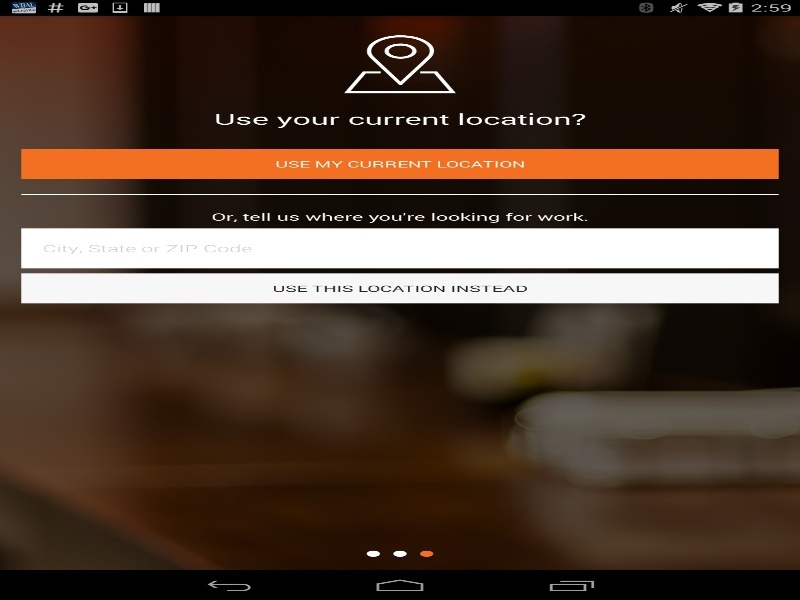Button: (21, 149, 778, 179), (21, 273, 778, 303)
Input: (42, 241, 757, 255)
